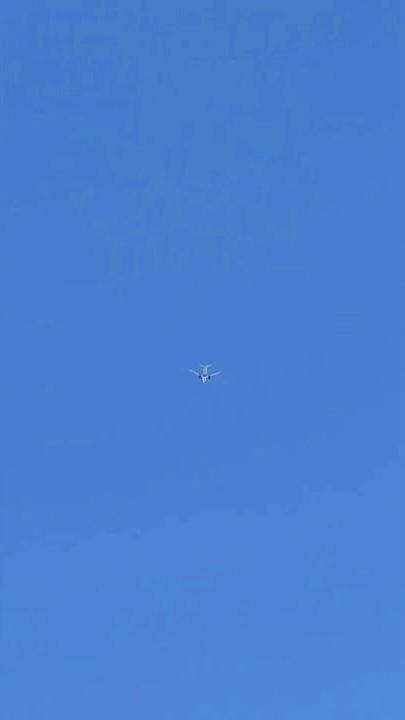Plane: (183, 352, 225, 394)
